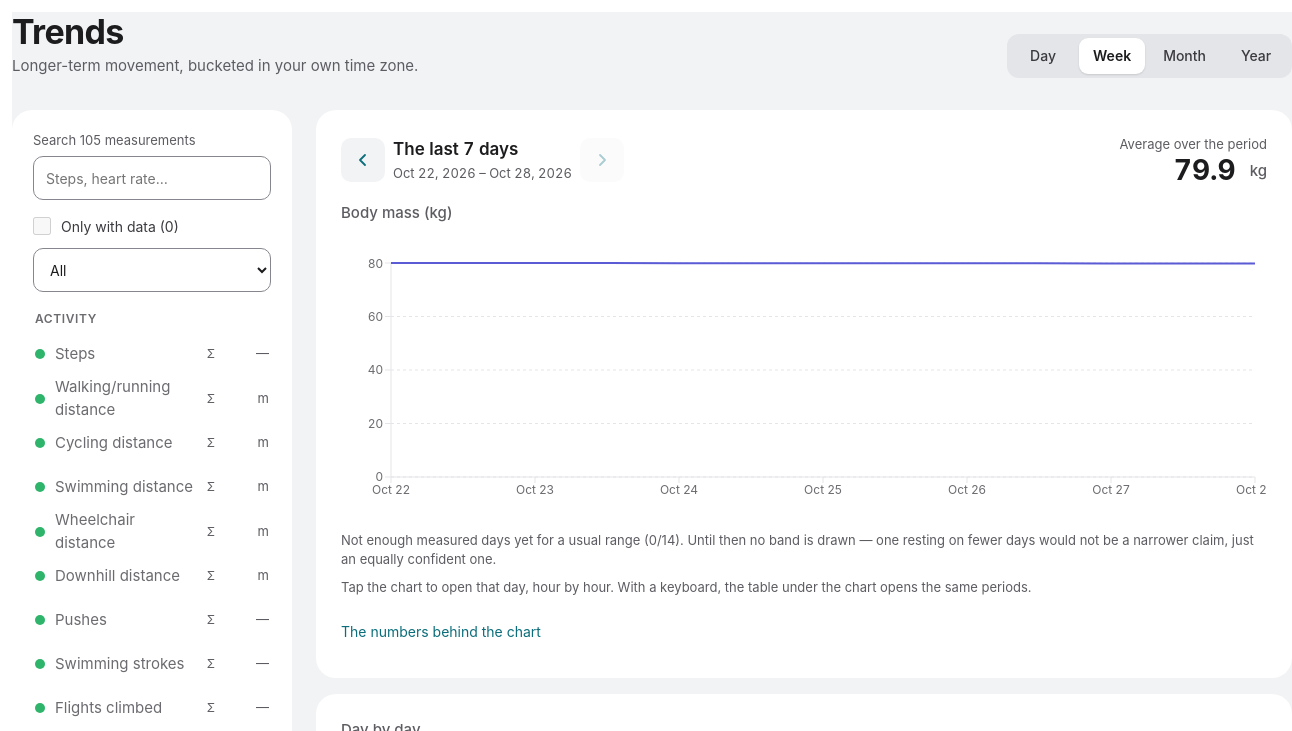
Scenario: the body-mass trend card › states the weekly rate of the trend over a month of weighings
Click the button "Month" at (1185, 56), box [1149,38,1220,74]
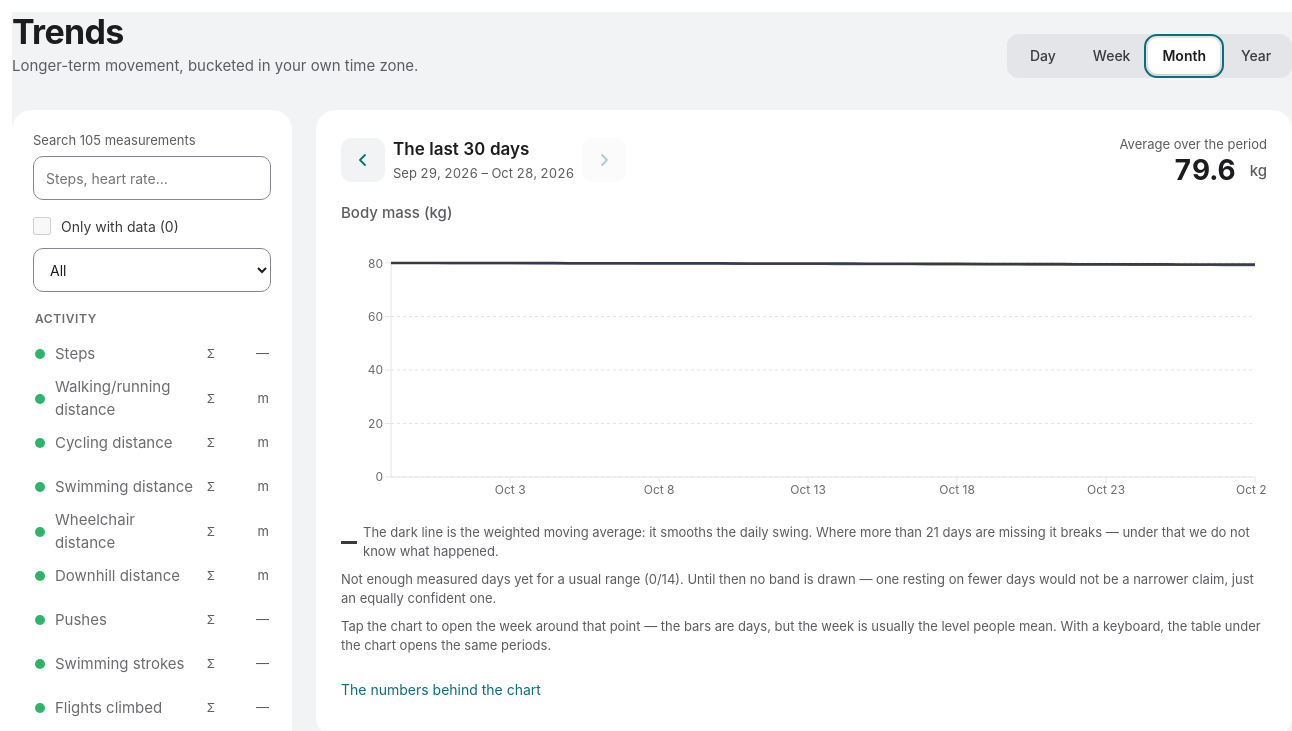
Now the text "weighted moving average" is shown, box [363,524,1250,560]
